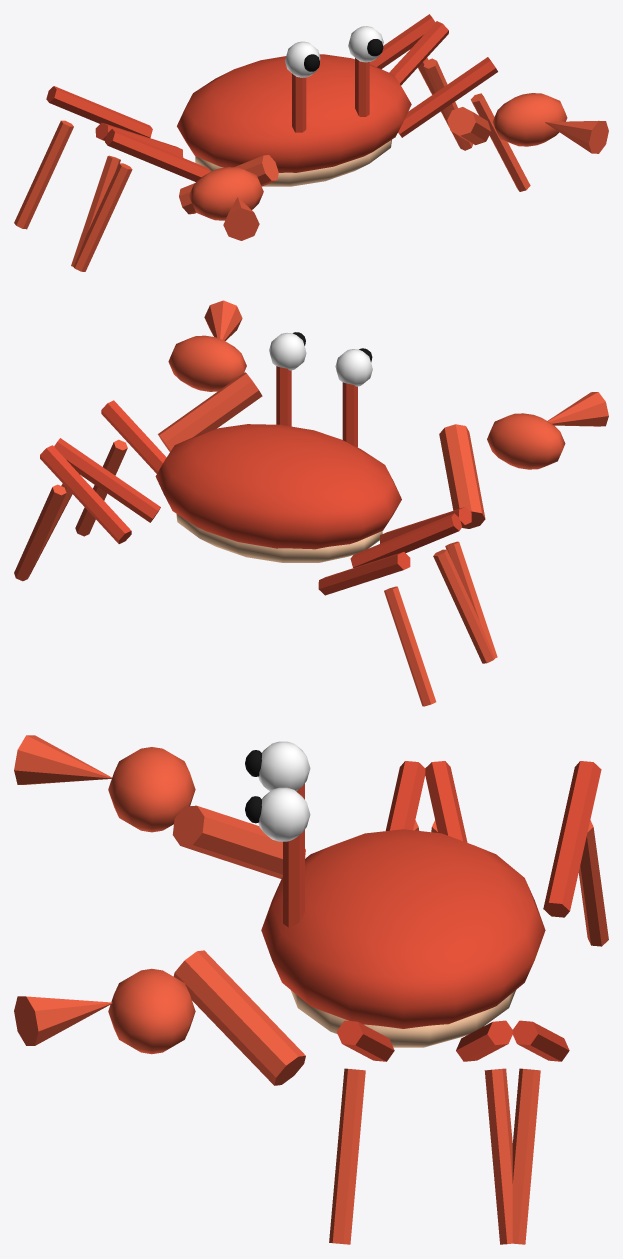
Rendered from CrabAnimated.glb.
The picture shows the model from 3 angles, top to bottom: view 1: azimuth 30°, elevation 25°; view 2: azimuth 150°, elevation 25°; view 3: azimuth 270°, elevation 25°; orthographic projection. The views are drawn at different scales.
Visible parts, largest first — view 1: Shell, Pincer.001, Pincer, Thigh.003, Thigh, Thigh.002, Shin.002, Shin, Belly, Thigh.004, JawTip.001, Shin.003 (+11 smaller); view 2: Shell, Pincer, Pincer.001, ArmSeg.001, ArmSeg, Belly, Thigh.005, Thigh.004, Thigh.001, Shin.002, Shin.001, Thigh.002 (+11 smaller); view 3: Shell, ArmSeg.001, Pincer.001, Pincer, ArmSeg, Thigh.002, Shin.003, Shin.005, Shin.004, Belly, JawTip, JawTip.001 (+9 smaller).
Part boxes in pixels (bbox=[...]): Shell: bbox=[177, 54, 411, 172]; Pincer.001: bbox=[492, 93, 567, 146]; Pincer: bbox=[189, 167, 263, 220]; Thigh.003: bbox=[398, 57, 497, 137]; Thigh: bbox=[105, 128, 210, 181]; Thigh.002: bbox=[46, 86, 152, 137]; Shin.002: bbox=[14, 120, 73, 229]; Shin: bbox=[73, 163, 132, 271]; Belly: bbox=[195, 140, 391, 186]; Thigh.004: bbox=[389, 21, 448, 85]; JawTip.001: bbox=[545, 120, 608, 153]; Shin.003: bbox=[470, 93, 530, 191]; Shell: bbox=[155, 424, 401, 549]; Pincer: bbox=[487, 413, 565, 469]; Pincer.001: bbox=[168, 335, 246, 391]; ArmSeg.001: bbox=[158, 372, 262, 451]; ArmSeg: bbox=[439, 424, 485, 528]; Belly: bbox=[176, 514, 382, 562]; Thigh.005: bbox=[40, 445, 131, 543]; Thigh.004: bbox=[54, 438, 160, 522]; Thigh.001: bbox=[350, 513, 462, 567]; Shin.002: bbox=[384, 586, 436, 706]; Shin.001: bbox=[433, 549, 494, 663]; Thigh.002: bbox=[318, 552, 410, 595]; Shell: bbox=[261, 829, 545, 1028]; ArmSeg.001: bbox=[173, 950, 305, 1085]; Pincer.001: bbox=[108, 968, 195, 1054]; Pincer: bbox=[108, 747, 195, 832]; ArmSeg: bbox=[172, 805, 305, 878]; Thigh.002: bbox=[543, 761, 601, 917]; Shin.003: bbox=[329, 1068, 365, 1244]; Shin.005: bbox=[512, 1068, 540, 1244]; Shin.004: bbox=[484, 1068, 512, 1244]; Belly: bbox=[290, 990, 515, 1047]; JawTip: bbox=[14, 735, 111, 784]; JawTip.001: bbox=[14, 996, 112, 1045].
Bounding box in the file's own units: 0.677 × 0.3312 × 0.5441.
